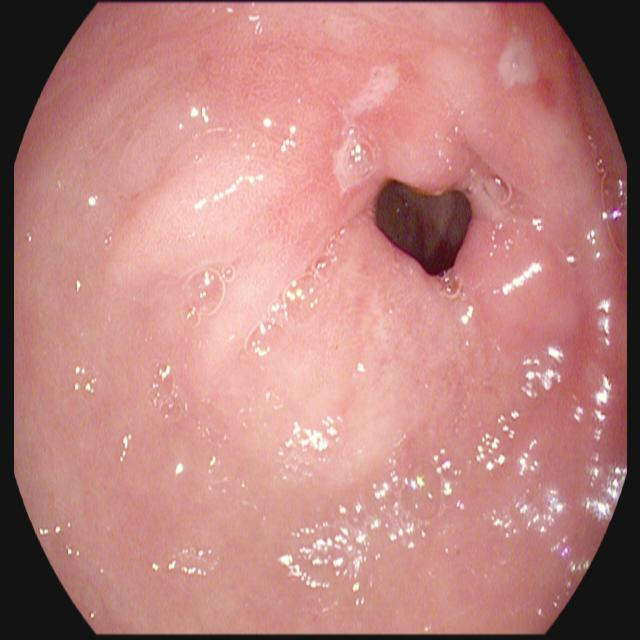normal-pylorus: (316, 4, 627, 459)
